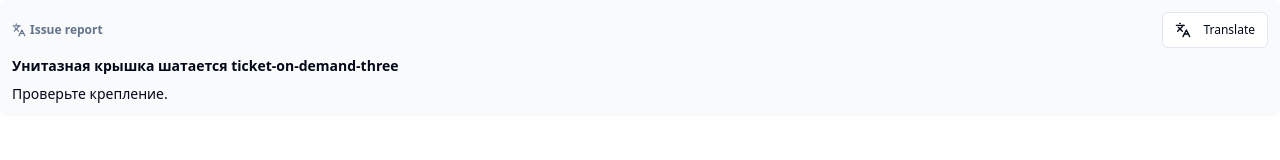
forwarded maintenance on-demand translation › requests the currently selected language after an opted-in card switches locale
Later steps or results of the test are not shown.
Click the button "Translate" at (1215, 30), box [1162,12,1268,48]
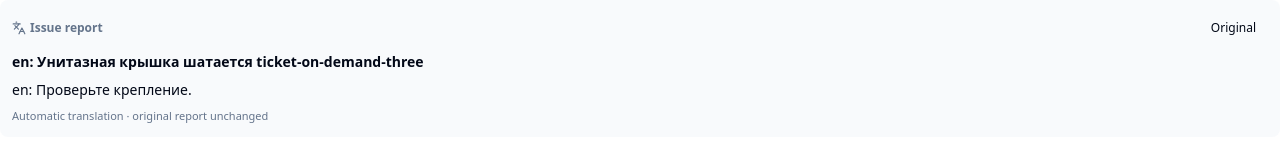
Result: the text "en: Унитазная крышка шатается ticket-on-demand-three" is shown at [12,52,424,71]
